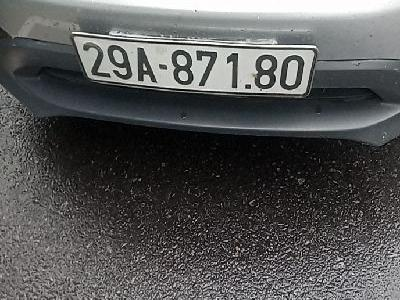car: (70, 27, 318, 105)
